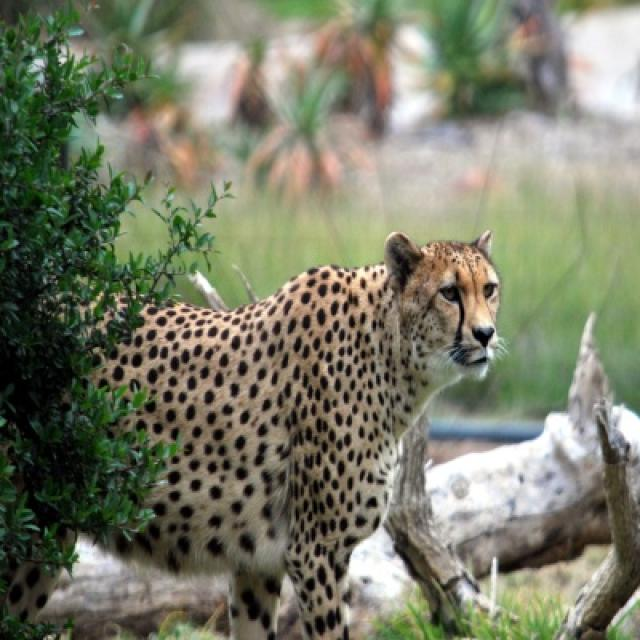Cheetah: (75, 226, 501, 638)
